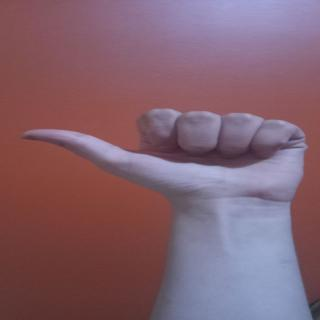DAD: (9, 99, 320, 210)
